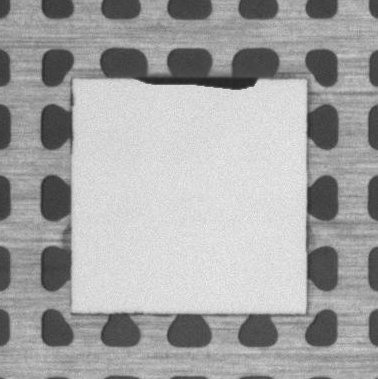DIE_BROKEN: (134, 72, 259, 90)
